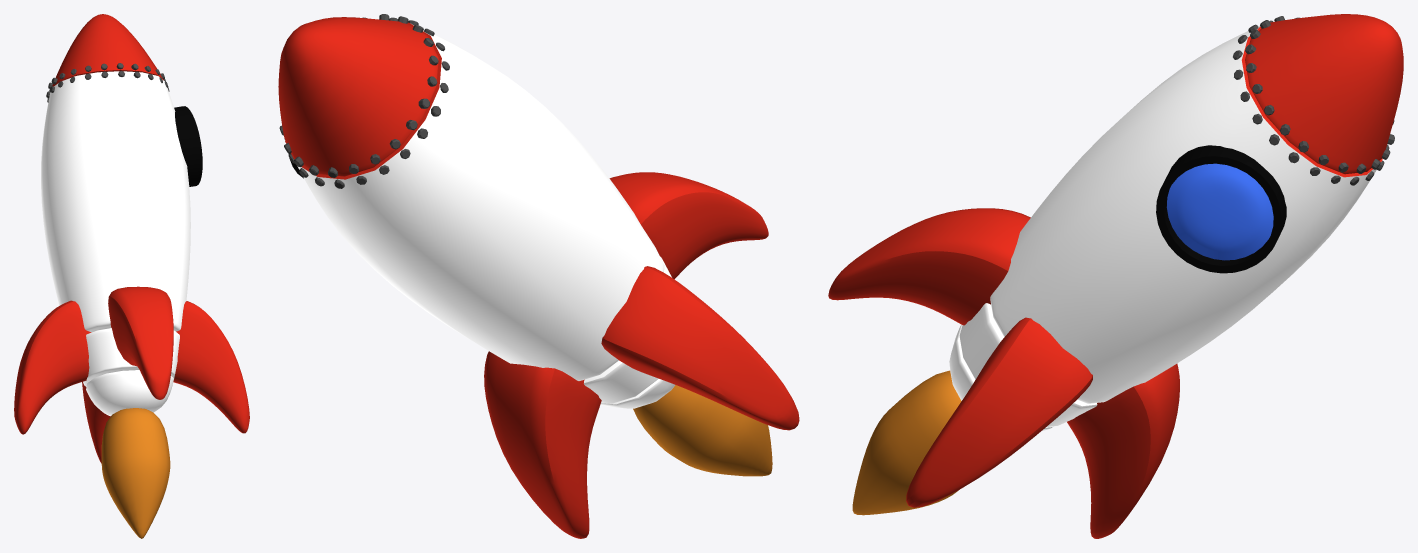
The model's file is rocket_small.glb.
3 views of the same model, side by side, from view 1: azimuth 30°, elevation 25°; view 2: azimuth 150°, elevation 25°; view 3: azimuth 270°, elevation 25° (orthographic). The views are drawn at different scales.
Visible parts, largest first — view 1: body, air, fire, red, glass background, steel; view 2: body, air, red, fire, steel; view 3: body, air, red, glass, fire, glass background, steel.
Boxes of the visible parts, x1,y1,x2,y2 form: body: [41, 71, 190, 416]; air: [14, 286, 249, 463]; fire: [101, 408, 170, 538]; red: [52, 14, 163, 86]; glass background: [174, 106, 202, 186]; steel: [46, 63, 169, 102]; body: [297, 24, 674, 408]; air: [484, 172, 799, 538]; red: [278, 17, 441, 179]; fire: [633, 385, 772, 476]; steel: [279, 14, 449, 188]; body: [949, 25, 1381, 431]; air: [828, 208, 1179, 538]; red: [1241, 14, 1403, 177]; glass: [1166, 163, 1273, 260]; fire: [852, 370, 961, 515]; glass background: [1156, 145, 1286, 273]; steel: [1233, 16, 1394, 185].
Size of the model in its own units: 4.19 by 6.21 by 5.5.
